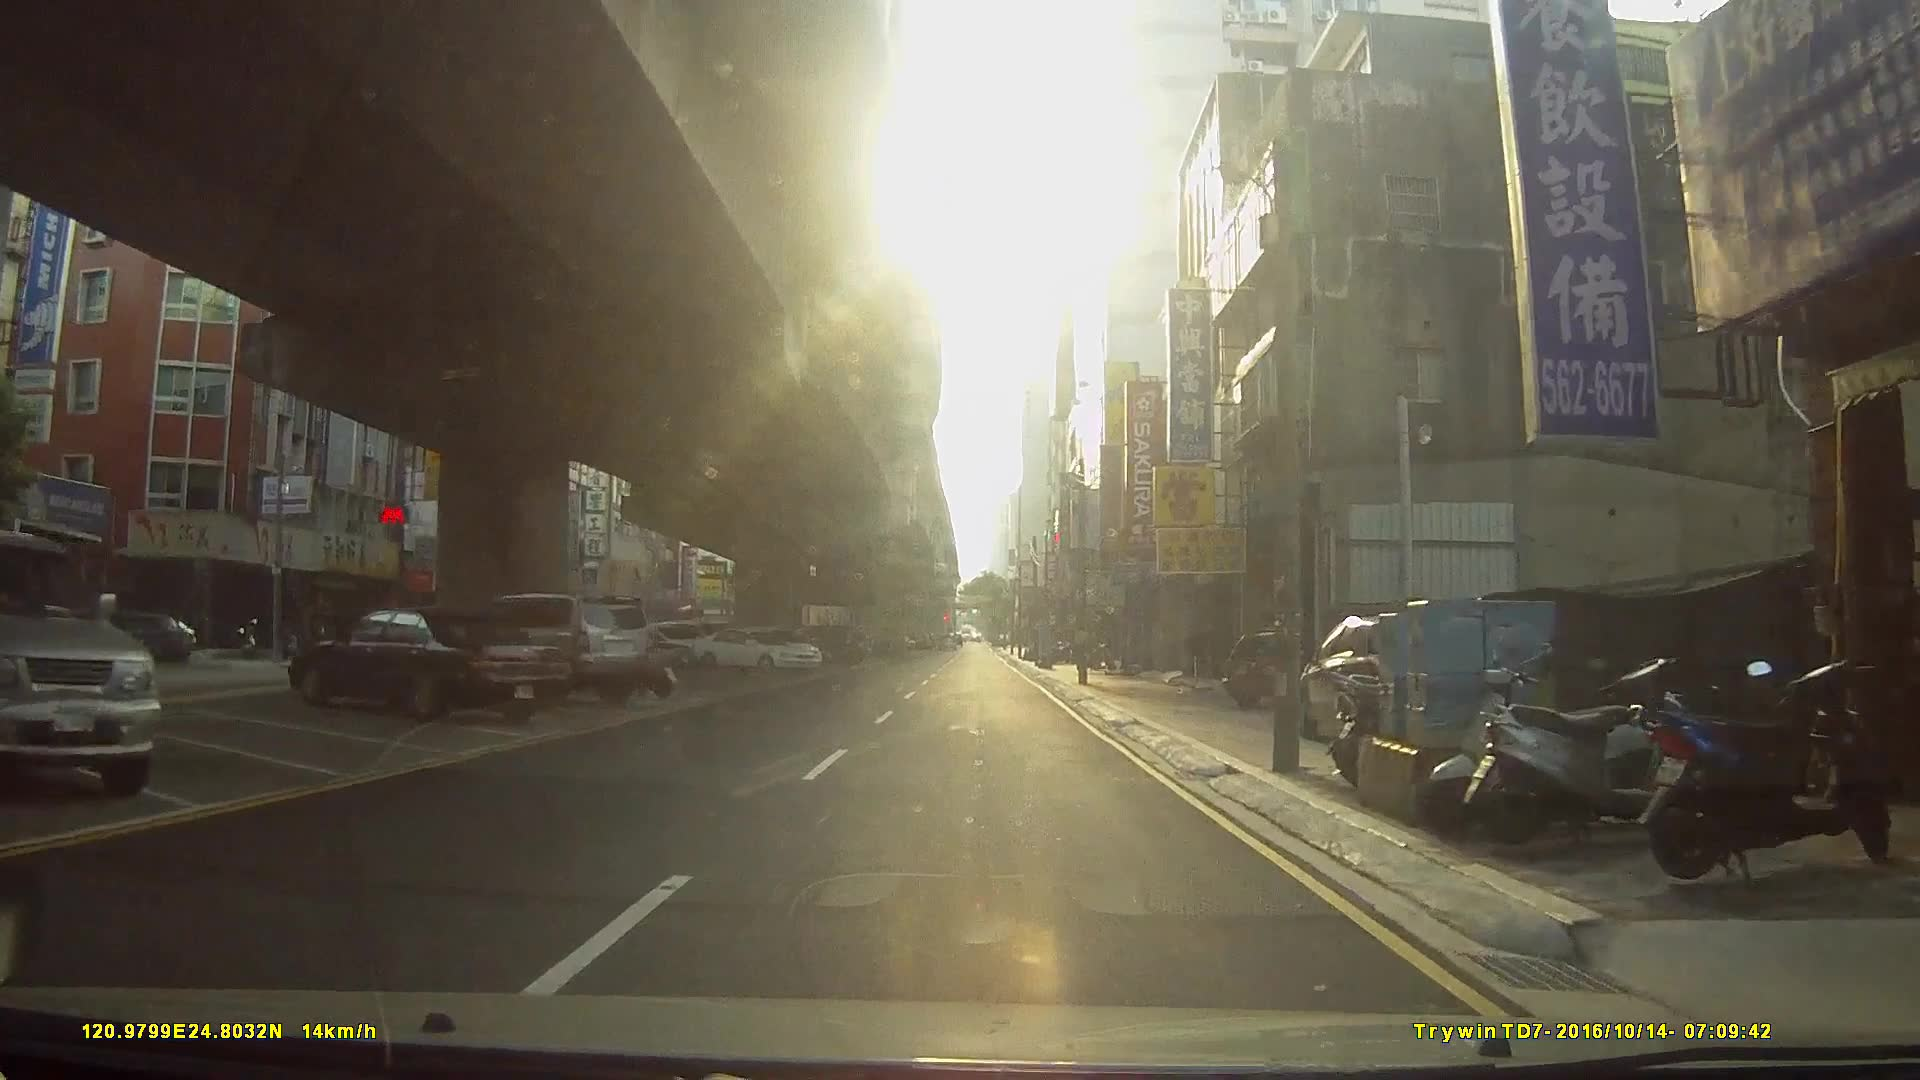vehicle: (0, 530, 160, 799), (284, 604, 572, 723), (462, 589, 655, 705), (1222, 621, 1350, 709), (688, 625, 824, 676), (91, 609, 196, 663)
